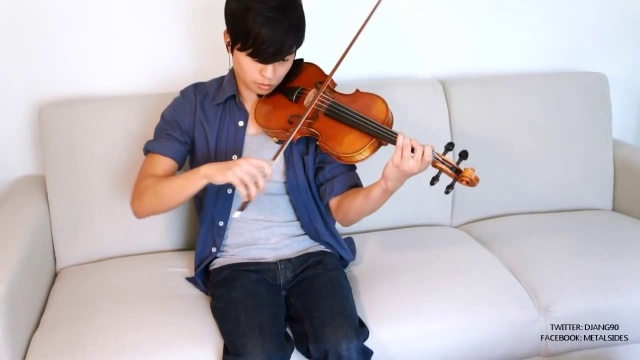person: (125, 6, 457, 356)
